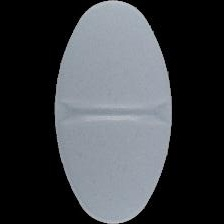16729-003: (0, 0, 224, 224)
